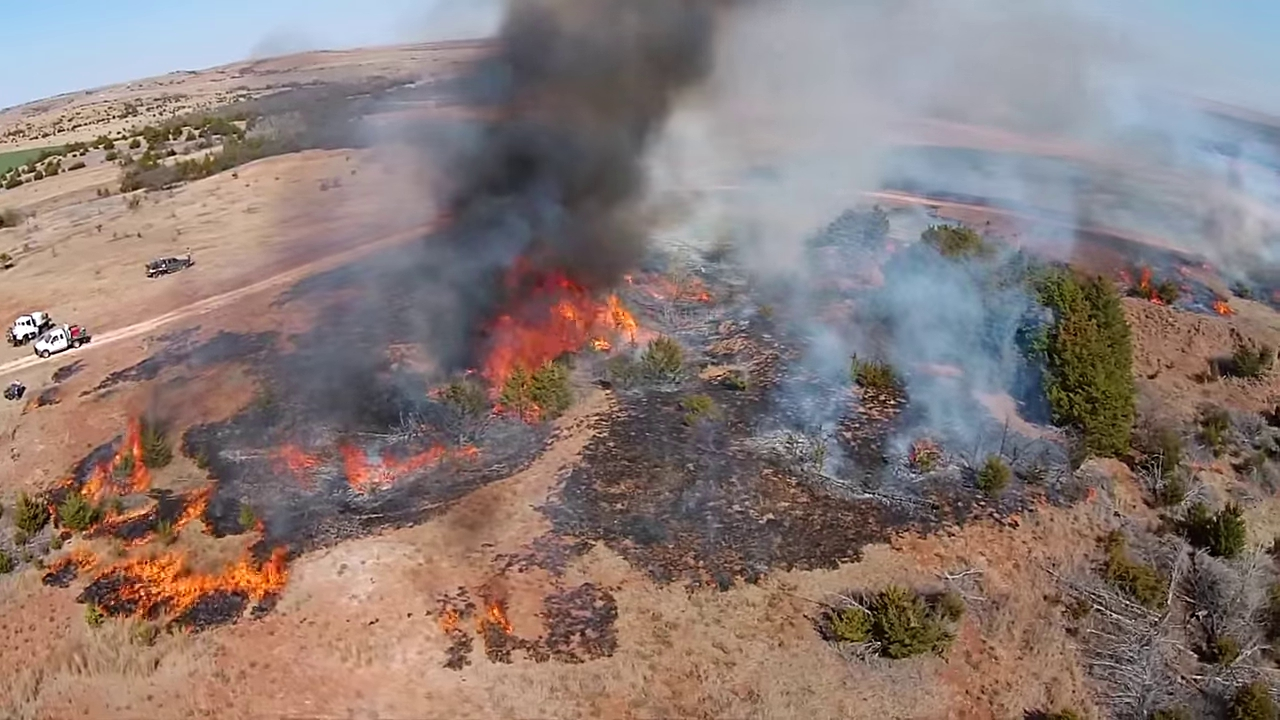forest_fire: (480, 270, 637, 392), (80, 547, 287, 616), (277, 442, 477, 492), (85, 485, 213, 549), (60, 419, 150, 501), (1121, 267, 1234, 315), (46, 548, 96, 574), (488, 599, 511, 633)
